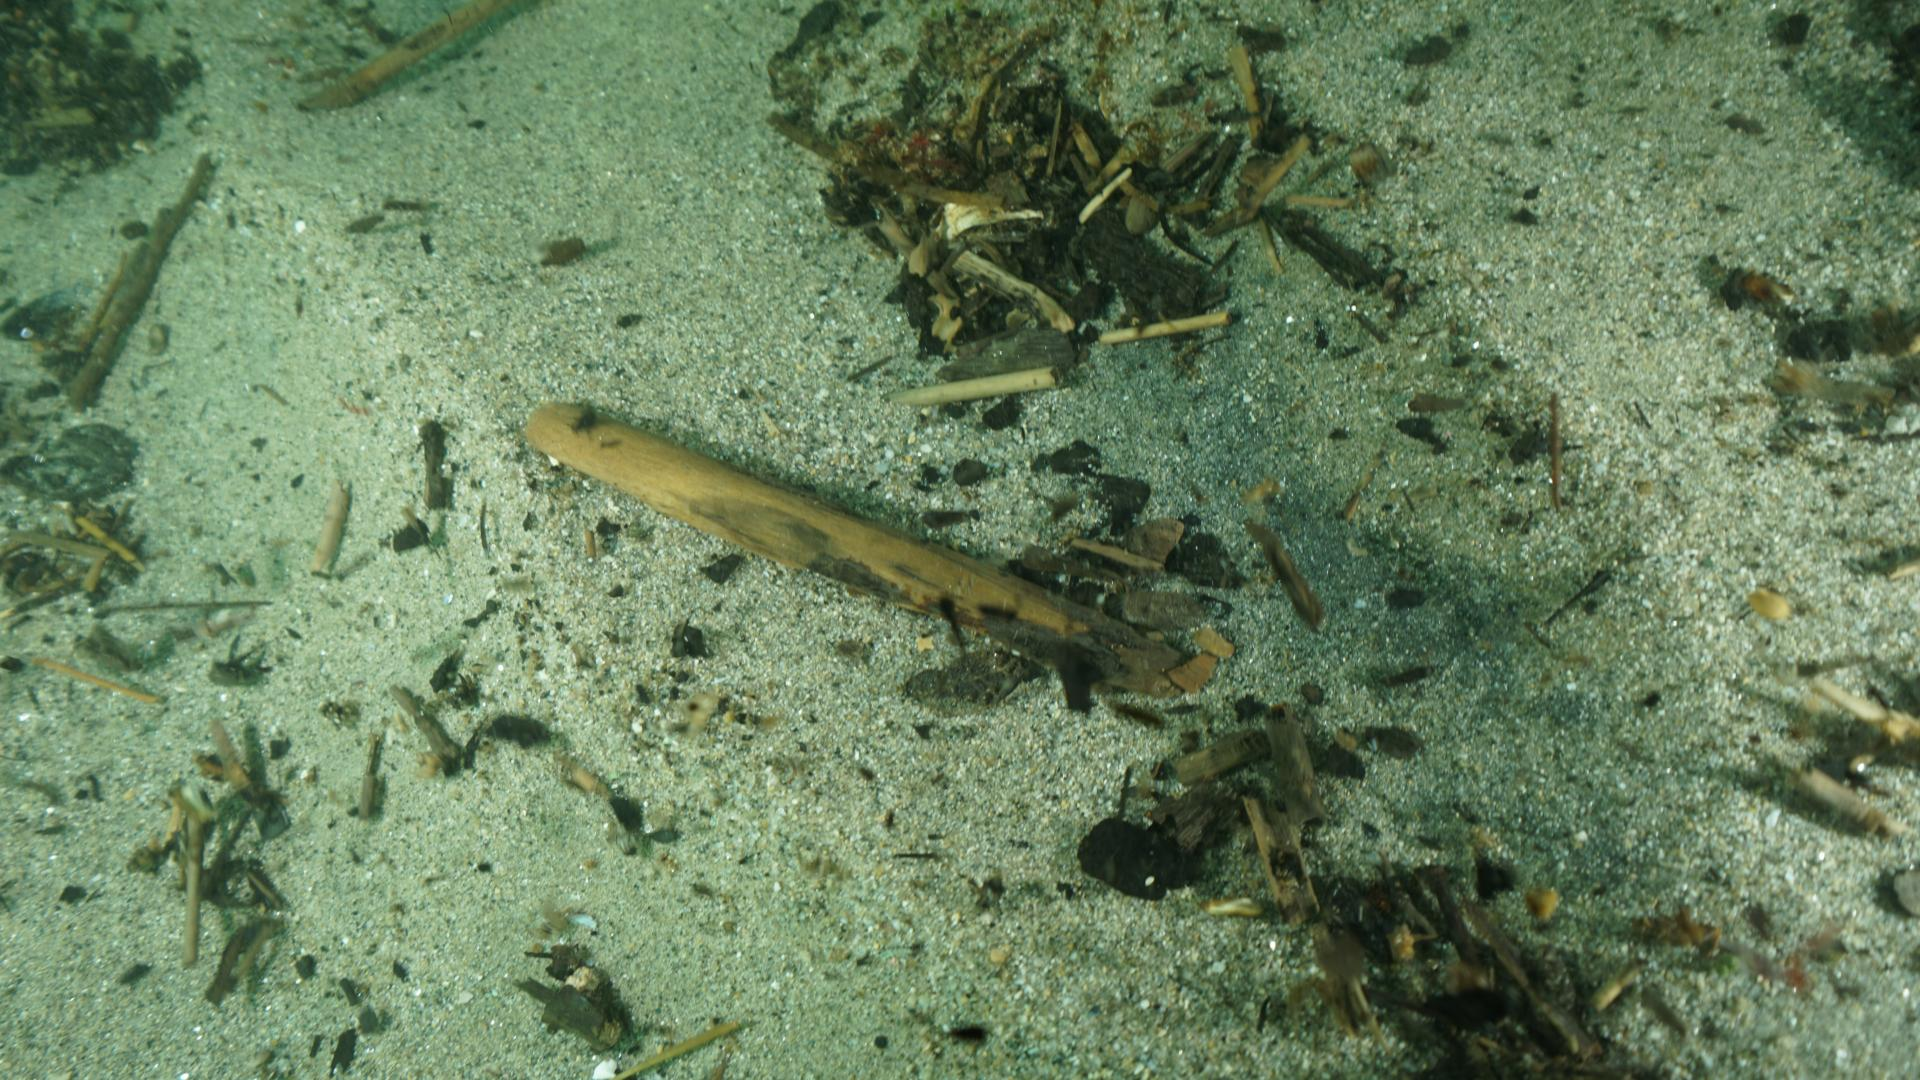wood: (524, 398, 1189, 698)
